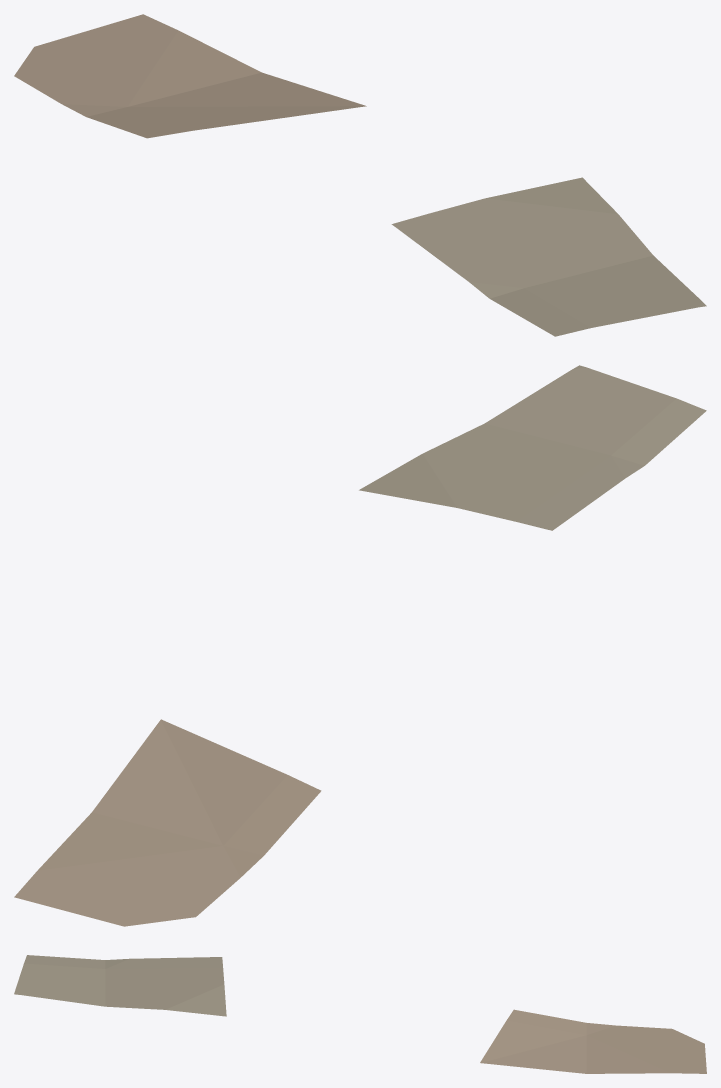
The model's file is farm_-36_-26_soil.glb.
The picture shows the model from 3 angles, top to bottom: view 1: azimuth 30°, elevation 25°; view 2: azimuth 150°, elevation 25°; view 3: azimuth 270°, elevation 25°; orthographic projection. The views are drawn at different scales.
Parts seen in each view (by area): view 1: geometry_0; view 2: geometry_0; view 3: geometry_0.
Part boxes in pixels (x1,y1,x2,y2): geometry_0: [14, 14, 706, 336]; geometry_0: [14, 365, 706, 926]; geometry_0: [14, 955, 706, 1073].
Bounding box in the file's own units: 70.34 × 44.15 × 346.
